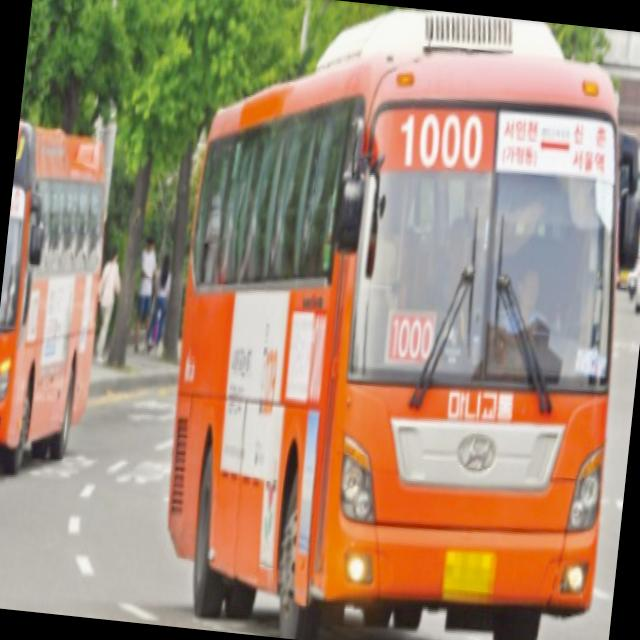bus-number: (396, 103, 488, 176)
